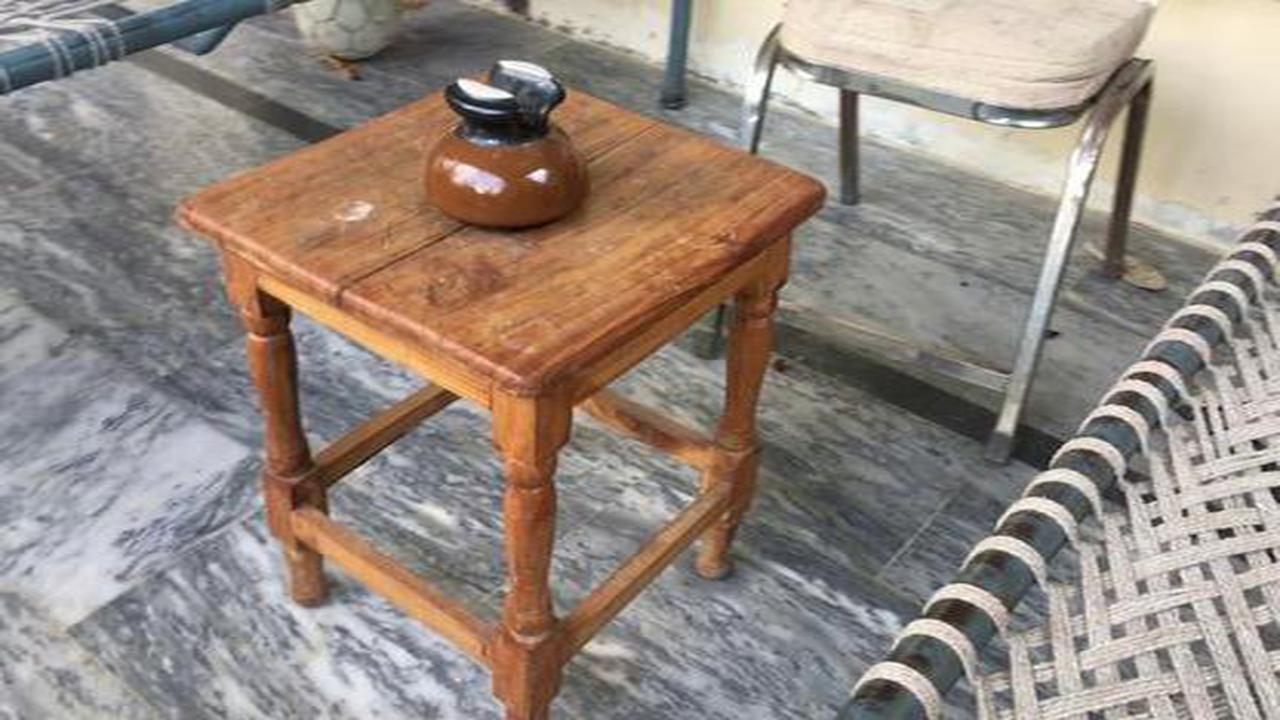insulator_pin: (407, 48, 604, 236)
